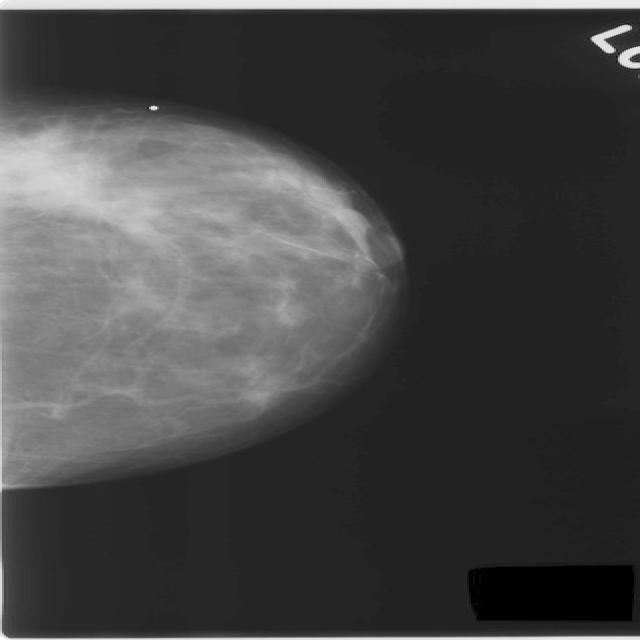tumour: (0, 128, 107, 214)
